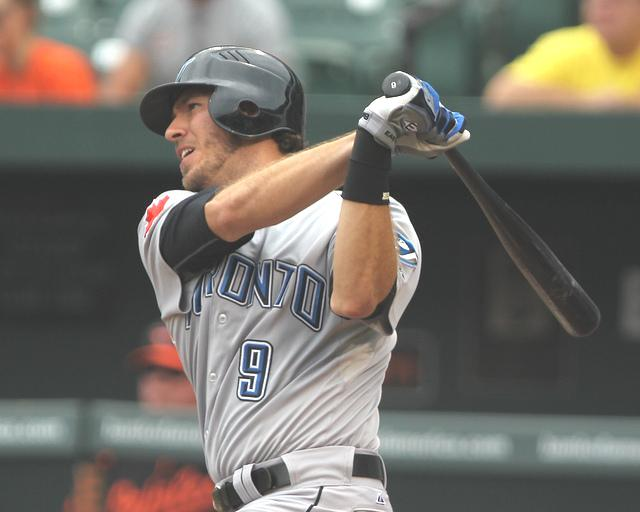baseball bat: (447, 147, 603, 339)
